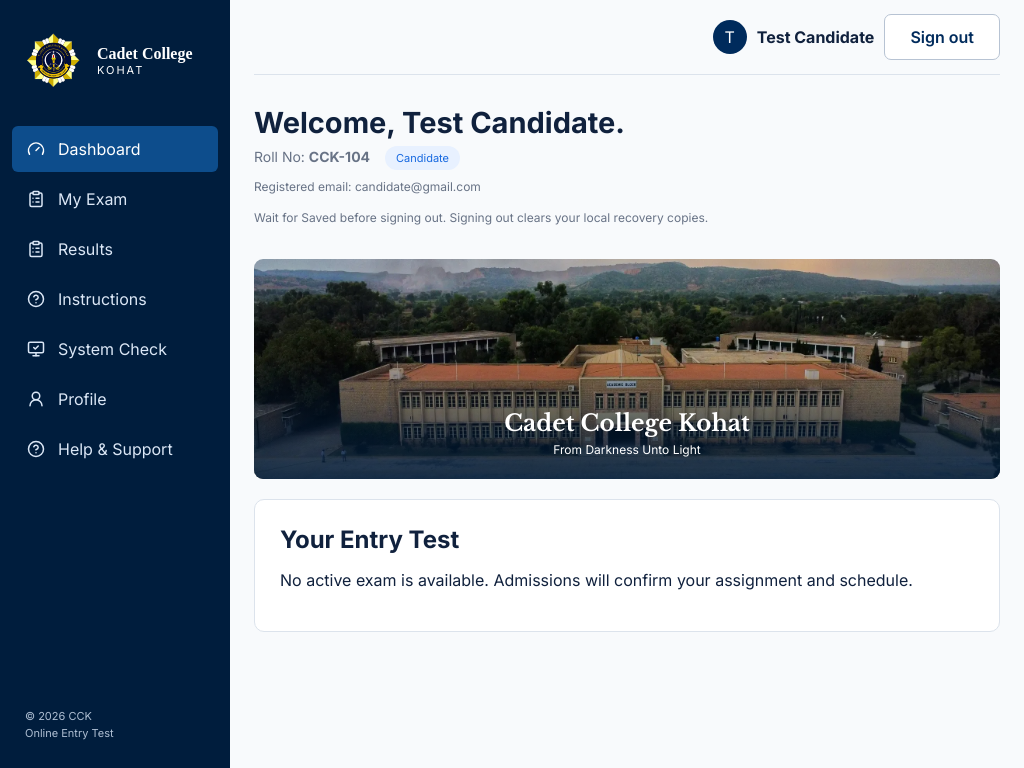
Test: protected dashboard › keeps the dashboard visible if sign-out cannot reach the server
The width and height of the screenshot is (1024, 768).
Step 1. Click the button "Sign out" → (942, 37), box top-left (884, 14), bottom-right (1000, 60)
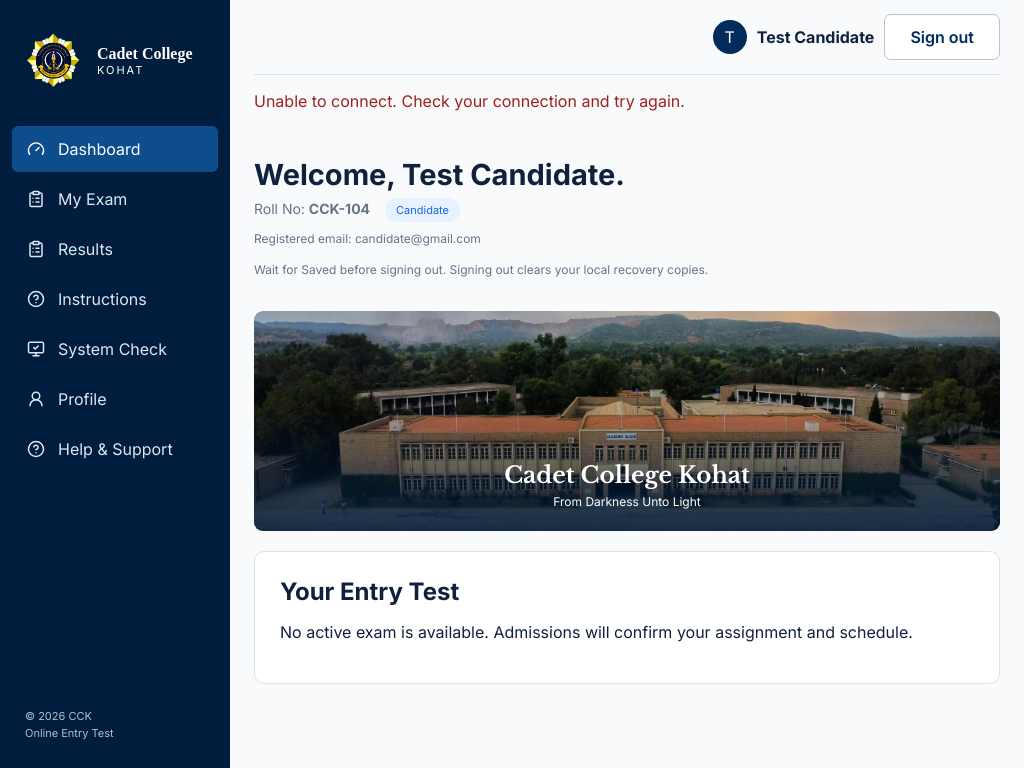
Expected: the text "CCK-104" is shown, top-left (309, 200), bottom-right (370, 217)
Result: the message shows "Unable to connect" at top-left (254, 91), bottom-right (685, 111)
